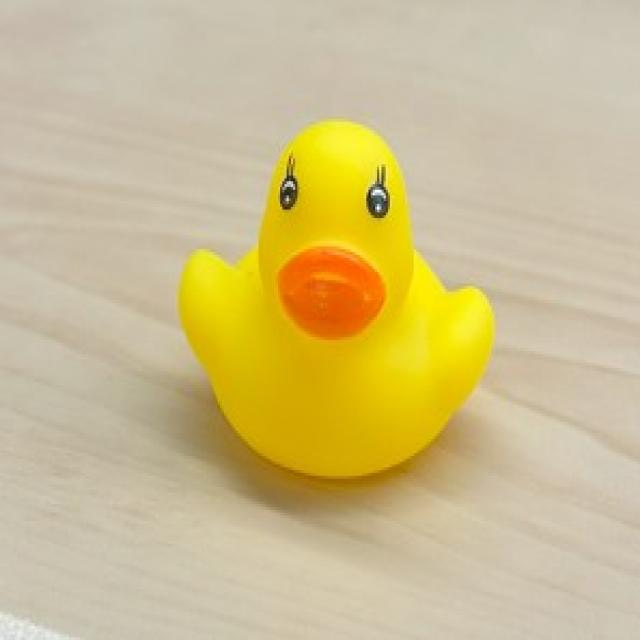duck_regular: (156, 89, 507, 526)
